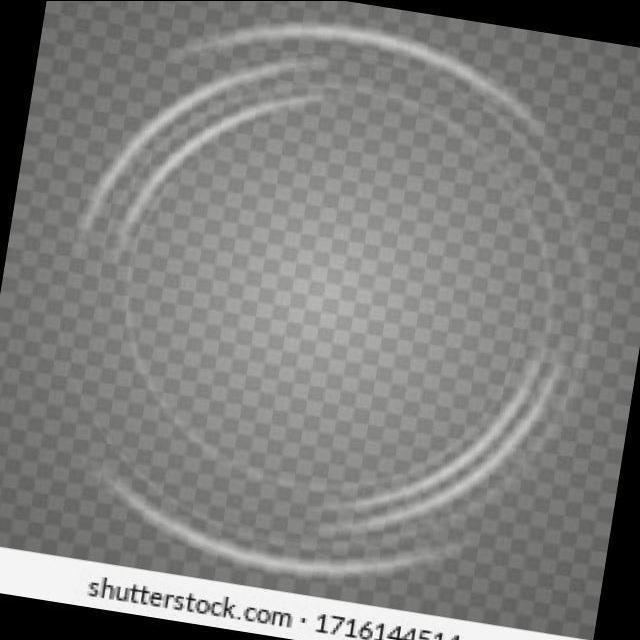Circle: (86, 27, 575, 561)
